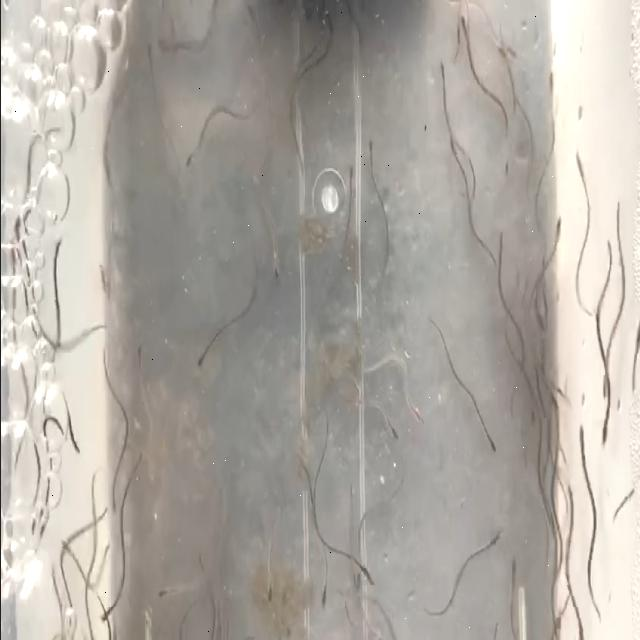active_glass_eel: (572, 411, 592, 479), (490, 212, 508, 274), (253, 560, 273, 612), (405, 396, 427, 438), (357, 548, 372, 608), (560, 471, 576, 522), (548, 212, 568, 252), (148, 565, 168, 605), (569, 149, 587, 193), (529, 290, 547, 334), (446, 128, 462, 176), (486, 419, 501, 470), (487, 514, 505, 554), (384, 418, 404, 454), (154, 27, 173, 63), (346, 142, 358, 198), (47, 242, 68, 274), (492, 33, 511, 66), (454, 8, 469, 48), (368, 114, 376, 186), (188, 339, 204, 375), (97, 252, 111, 292), (64, 415, 78, 454), (95, 594, 111, 628), (599, 413, 611, 457), (430, 56, 452, 80), (506, 544, 516, 596), (542, 69, 558, 101), (595, 371, 609, 406), (133, 331, 147, 366), (312, 582, 327, 614), (57, 528, 71, 562), (10, 214, 27, 242), (180, 143, 196, 172), (268, 262, 284, 290), (7, 246, 21, 274), (546, 384, 558, 416), (36, 508, 46, 544), (28, 506, 36, 547), (99, 532, 109, 564), (142, 28, 154, 54), (526, 396, 536, 426)
